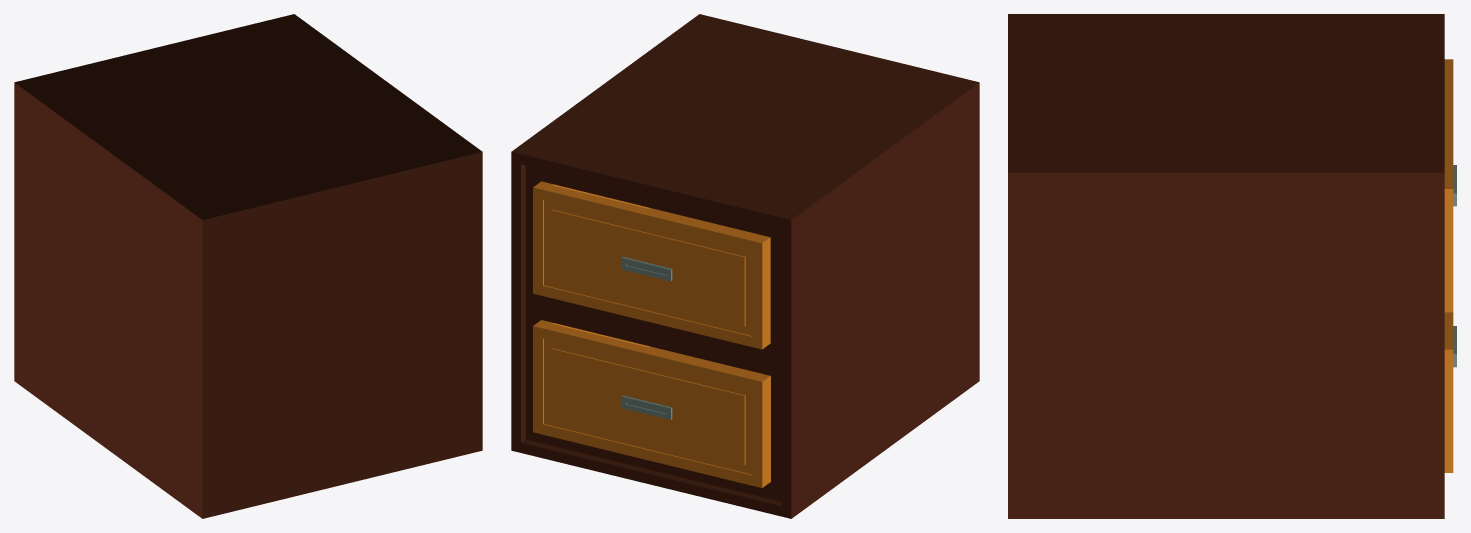
The model's file is Drawer Unit 1.fbx.
The picture shows the model from 3 angles, left to right: view 1: azimuth 30°, elevation 25°; view 2: azimuth 150°, elevation 25°; view 3: azimuth 270°, elevation 25°; orthographic projection. The views are drawn at different scales.
Visible parts, largest first — view 1: Node 0; view 2: Node 0, Node 2, Node 1; view 3: Node 0, Node 1, Node 2.
Part boxes in pixels (box(x1,y1,x2,y2)): Node 0: box(14, 14, 482, 518); Node 0: box(511, 14, 979, 518); Node 2: box(533, 320, 770, 487); Node 1: box(533, 181, 770, 349); Node 0: box(1008, 14, 1444, 518); Node 1: box(1444, 59, 1456, 312); Node 2: box(1444, 312, 1456, 472).
Size of the model in its own units: 0.7043 by 0.6 by 0.5887.
